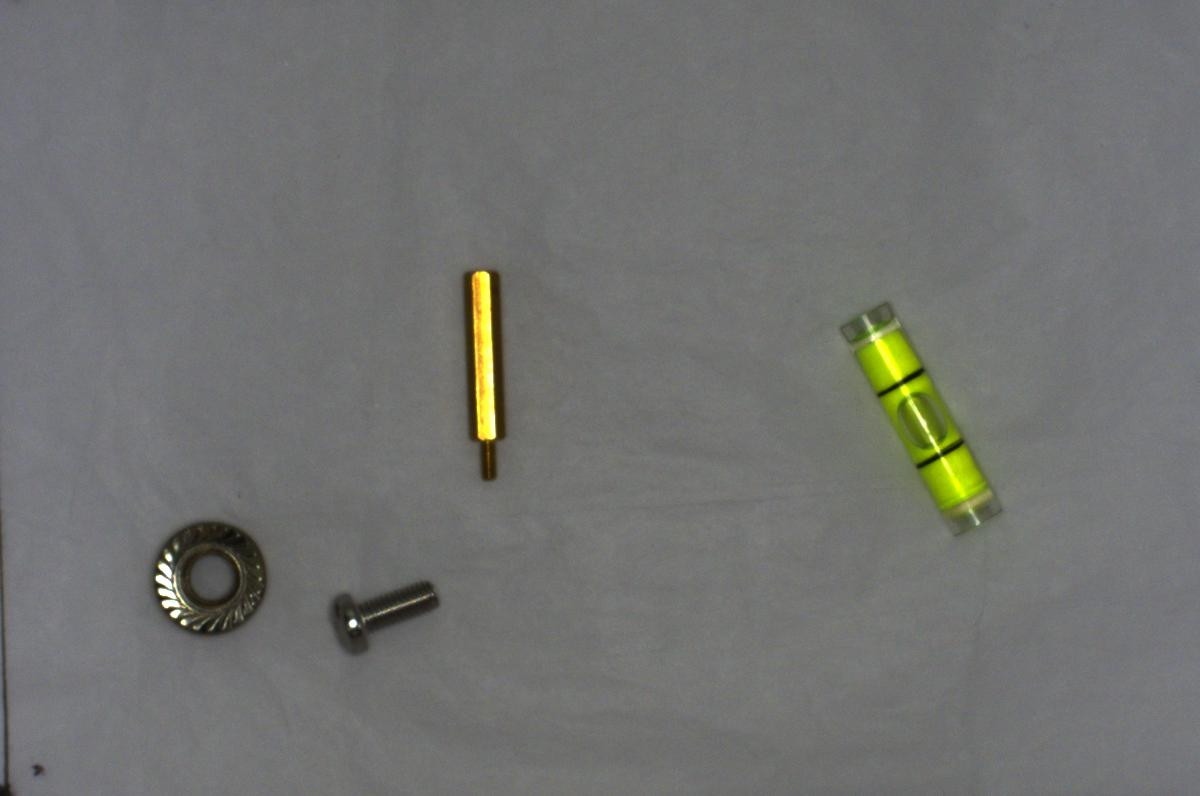Flange nut: (140, 507, 281, 648)
Hexagon pillar: (455, 260, 512, 493)
Horizontal bubble: (835, 293, 1004, 541)
Round head screw: (319, 562, 447, 665)
